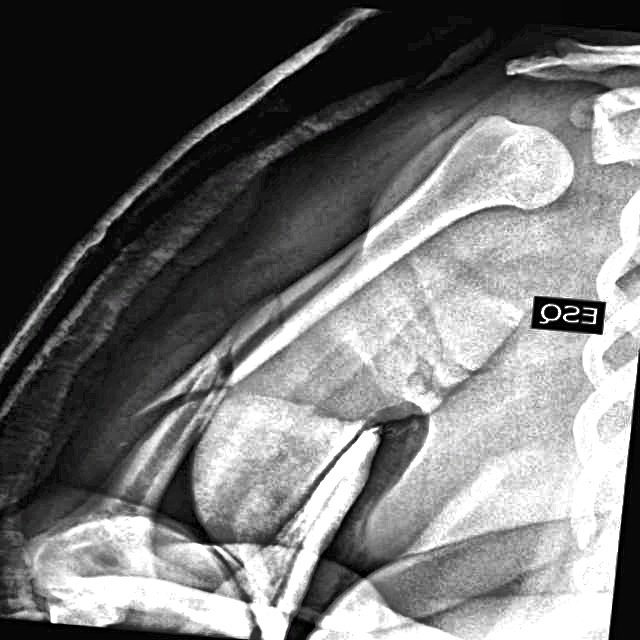Spiral: (110, 308, 289, 448)
